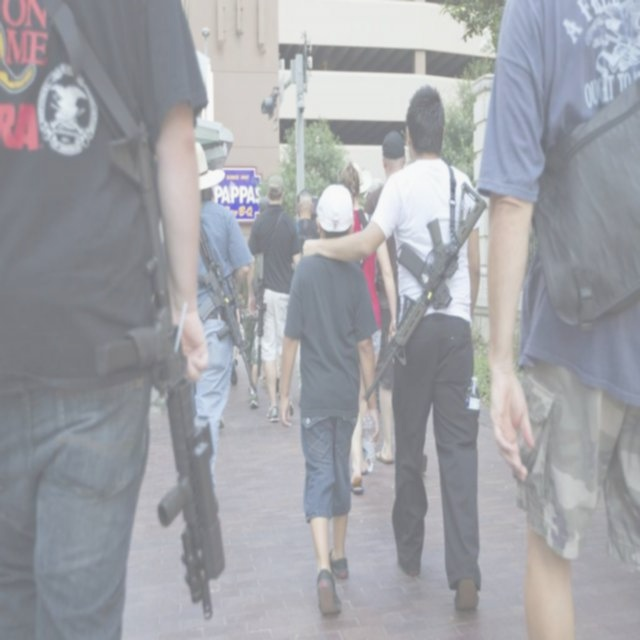pessoa: (472, 0, 640, 639), (298, 80, 490, 620), (276, 178, 386, 620), (189, 141, 254, 514), (337, 160, 398, 496), (362, 128, 407, 466), (245, 172, 303, 426), (210, 362, 238, 430), (296, 188, 322, 256), (232, 295, 242, 368), (258, 195, 270, 215), (310, 206, 320, 228)
